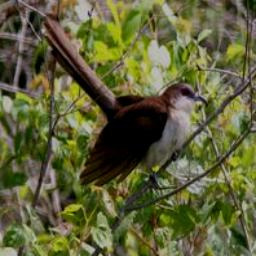Cuckoo: (78, 9, 209, 195)
